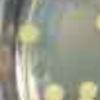yellow: (17, 19, 39, 41), (77, 78, 99, 100), (42, 83, 65, 100), (93, 12, 100, 36)
